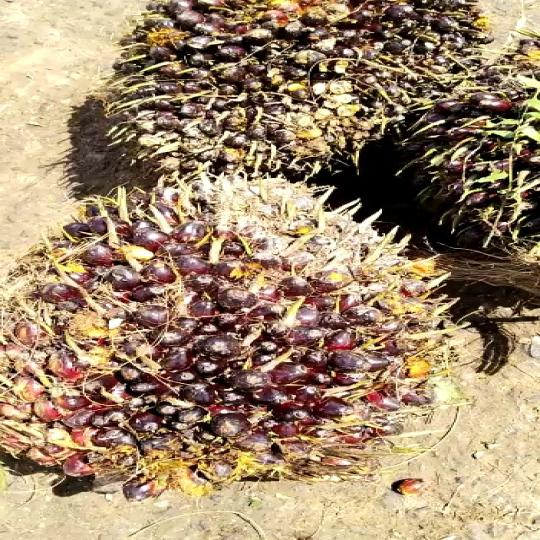kurang masak: (0, 190, 445, 508), (89, 0, 480, 193)
